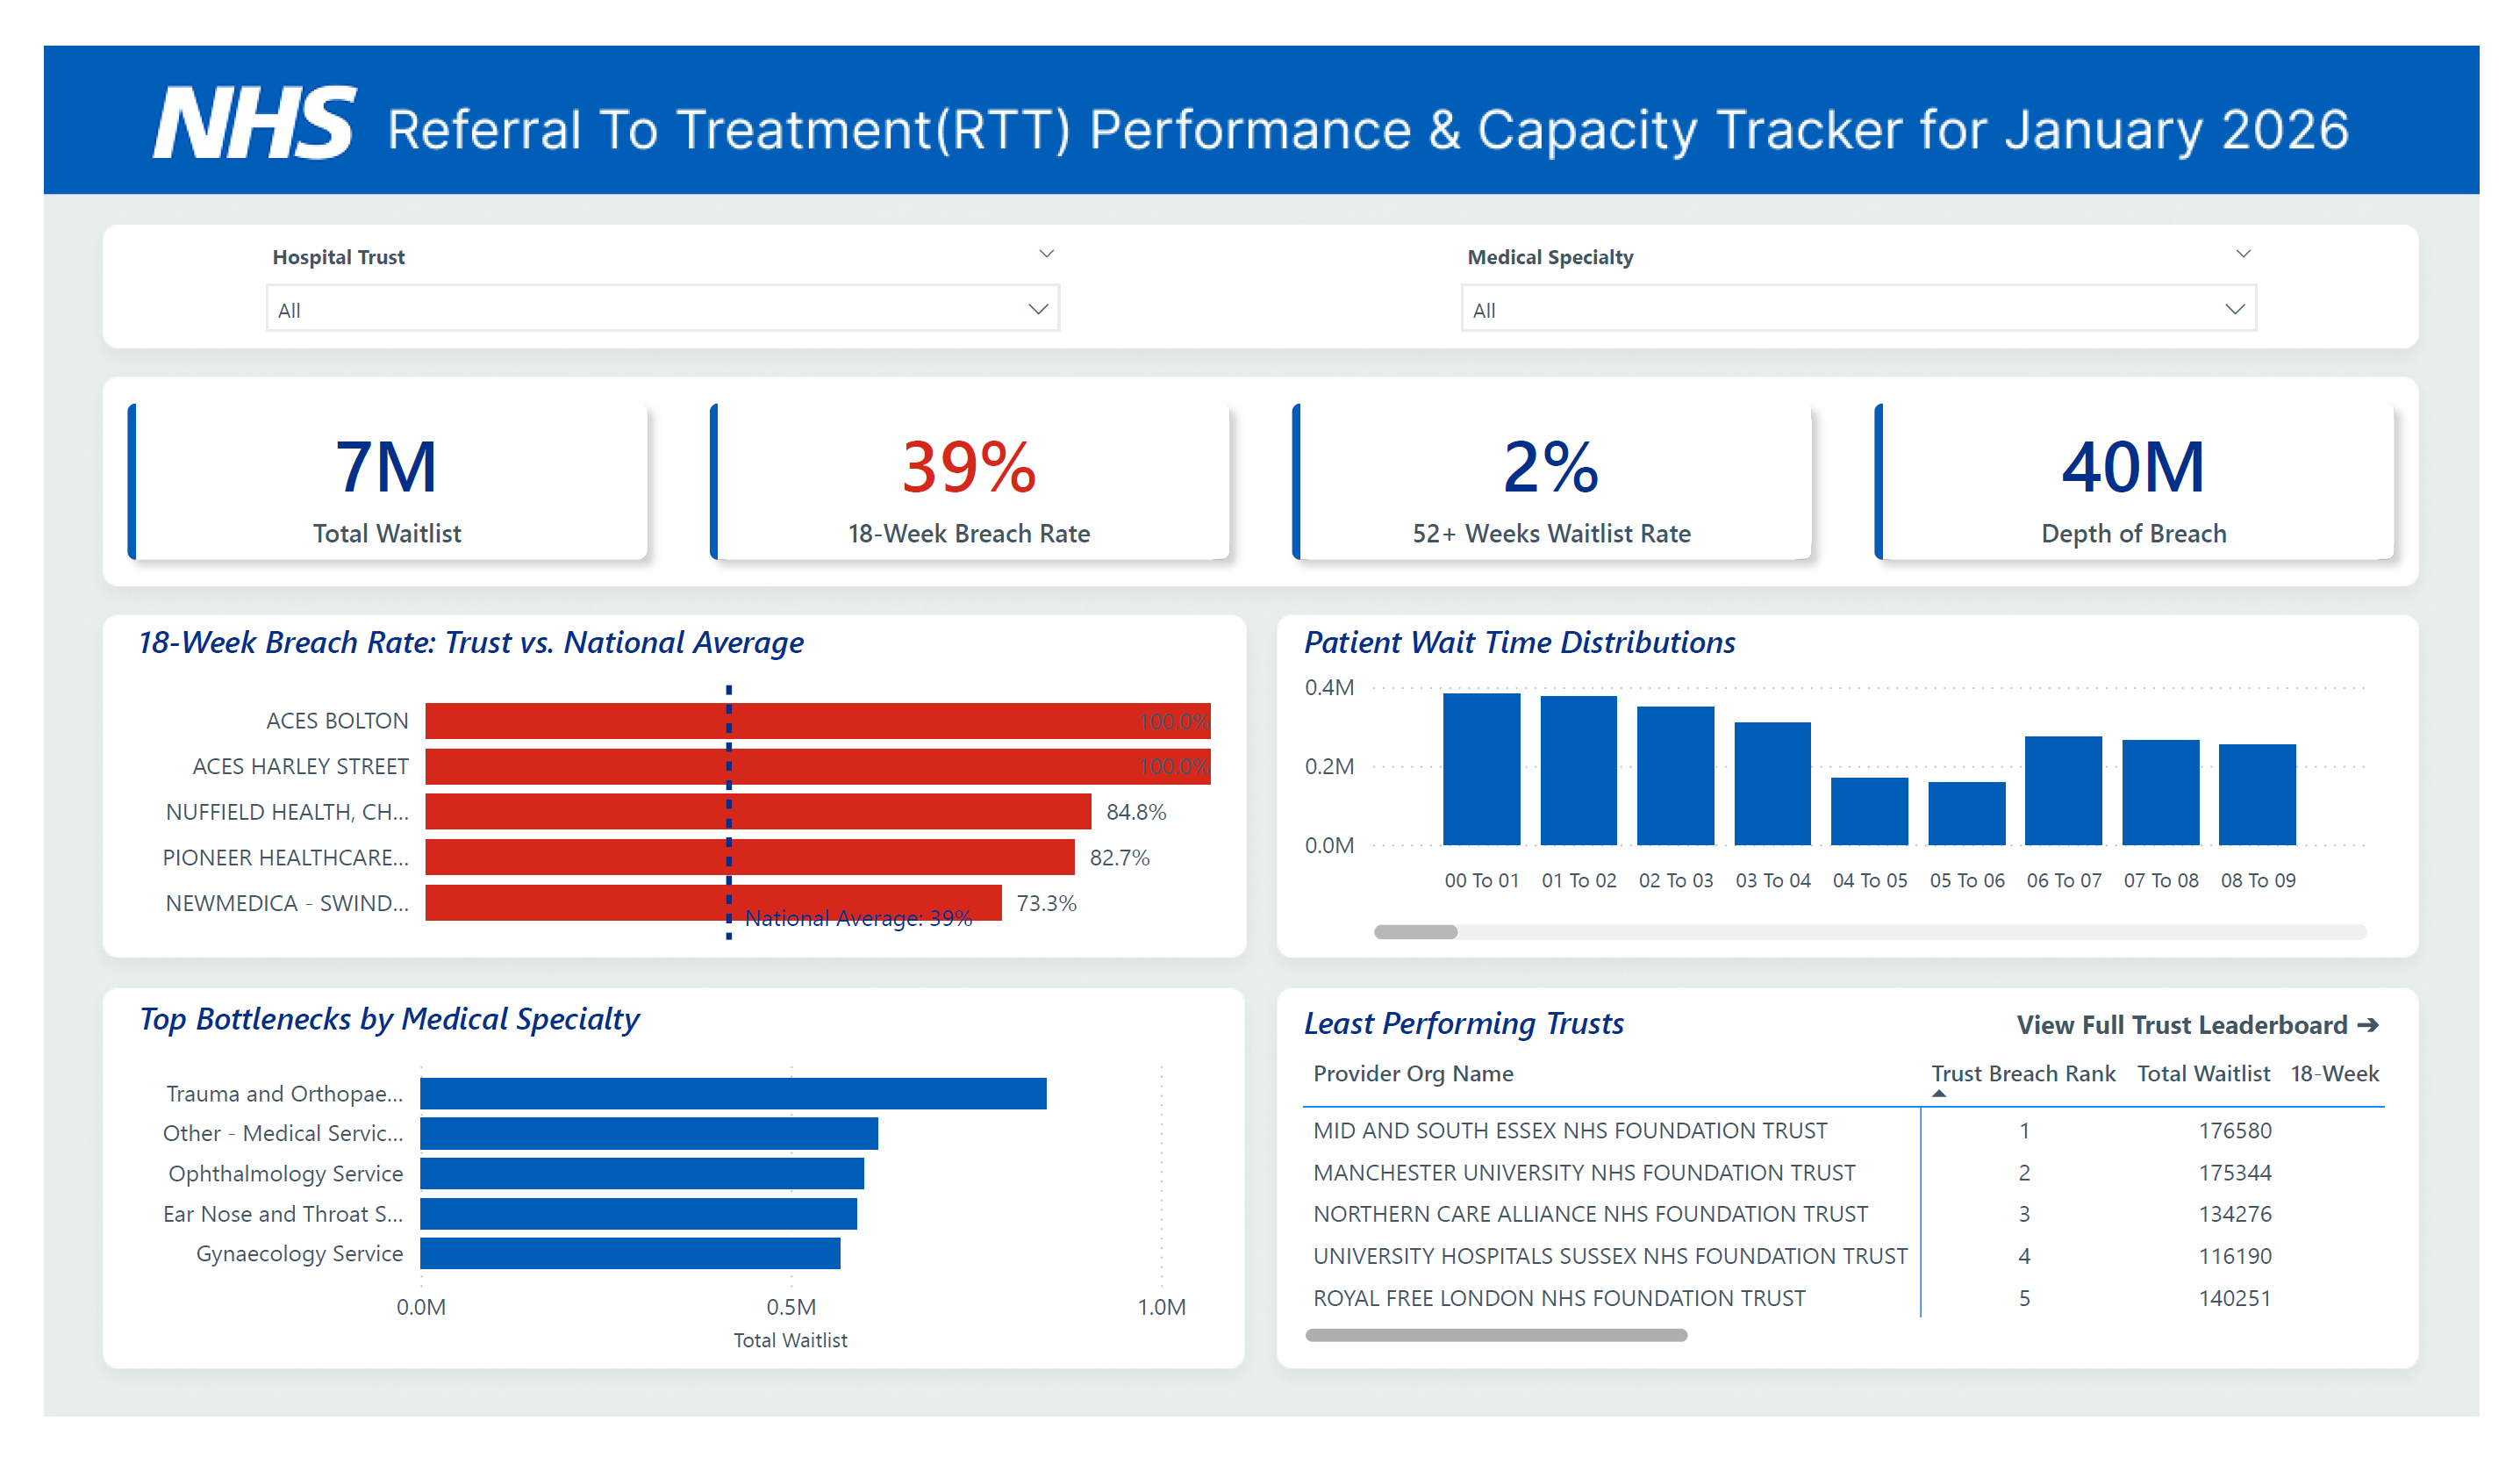

This screenshot's page, from the dashboard's own definition file:
{"tool":"powerbi","page":{"name":"Dashboard","canvas":[1280,720],"ordinal":0},"visuals":[{"type":"pivotTable","title":"Least Performing Trusts","fields":{"Rows":["Dim_Provider.Provider Org Name"],"Values":["_Key Measures.Trust Breach Rank","_Key Measures.Total Waitlist","_Key Measures.Total 18-Week Breaches","_Key Measures.18-Week Breach Rate","_Key Measures.Patients Waiting for 52+ Weeks","_Key Measures.% of Patients Waiting for 52+ Weeks"]},"box":[657,502,578,185],"z":0},{"type":"slicer","fields":{"Values":["Dim_Provider.Provider Org Name"]},"box":[107,98,437,57],"z":1000},{"type":"slicer","fields":{"Values":["Dim_Specialty.Treatment Function Name"]},"box":[735,98,438,57],"z":2000},{"type":"cardVisual","fields":{"Data":["_Key Measures.Total Waitlist","_Key Measures.18-Week Breach Rate","_Key Measures.% of Patients Waiting for 52+ Weeks","_Key Measures.Depth of Breach"]},"box":[17,171,1246,116],"z":3000},{"type":"clusteredBarChart","title":"18-Week Breach Rate: Trust vs. National Average","fields":{"Category":["Dim_Provider.Provider Org Name"],"Y":["_Key Measures.18-Week Breach Rate"]},"box":[45,302,573,173],"z":4000},{"type":"clusteredBarChart","title":"Top Bottlenecks by Medical Specialty","fields":{"Category":["Dim_Specialty.Treatment Function Name"],"Y":["_Key Measures.Total Waitlist"]},"box":[45,500,561,192],"z":5000},{"type":"clusteredColumnChart","title":"Patient Wait Time Distributions","fields":{"Category":["Dim_WaitBand.Wait Band"],"Y":["_Key Measures.Total Waitlist"]},"box":[657,302,569,173],"z":6000},{"type":"actionButton","title":"View Full Trust Leaderboard","box":[1013,499,239,27],"z":7000}]}

Visuals, with their boxes in screenshot pixels (x1, y1, x2, y2), scaled from the page's 1280x720 canvas onto the 2520x1457 screenshot:
"Least Performing Trusts" pivotTable: bbox=[1293, 1016, 2431, 1390]
slicer - Dim_Provider.Provider Org Name: bbox=[211, 198, 1071, 313]
slicer - Dim_Specialty.Treatment Function Name: bbox=[1447, 198, 2309, 313]
cardVisual - _Key Measures.Total Waitlist x _Key Measures.18-Week Breach Rate: bbox=[33, 346, 2487, 581]
"18-Week Breach Rate: Trust vs. National Average" clusteredBarChart: bbox=[89, 611, 1217, 961]
"Top Bottlenecks by Medical Specialty" clusteredBarChart: bbox=[89, 1012, 1193, 1400]
"Patient Wait Time Distributions" clusteredColumnChart: bbox=[1293, 611, 2414, 961]
"View Full Trust Leaderboard" actionButton: bbox=[1994, 1009, 2465, 1065]
